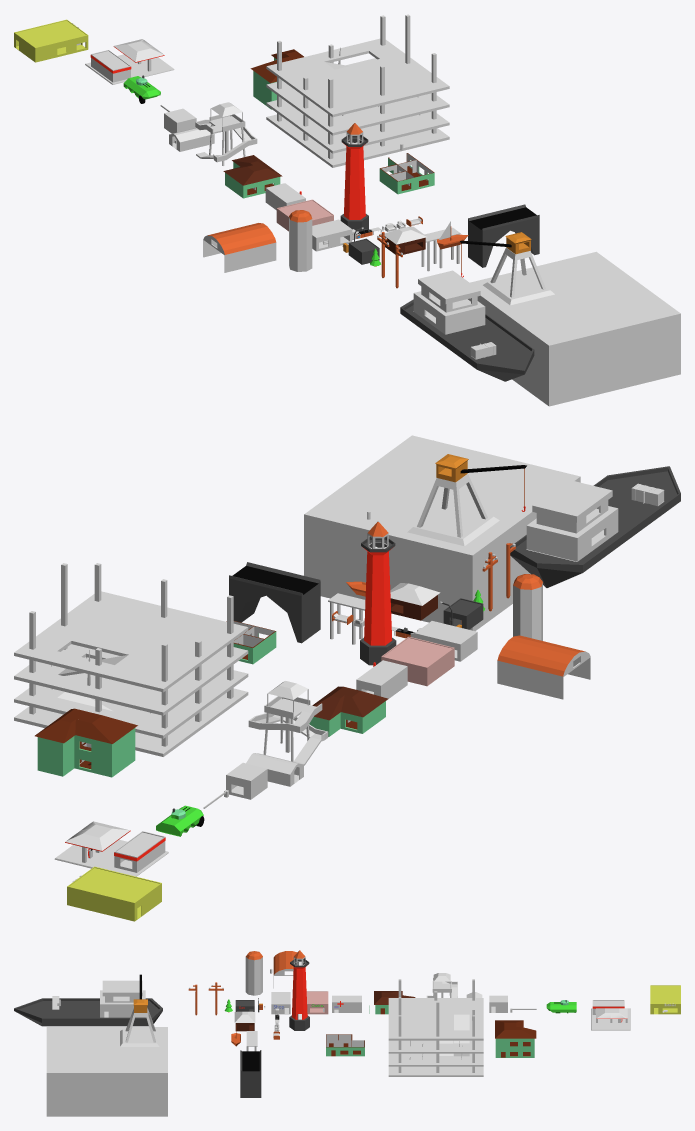
File: Enviroment.fbx
3 views of the same model, one above another, from view 1: azimuth 30°, elevation 25°; view 2: azimuth 150°, elevation 25°; view 3: azimuth 270°, elevation 25° (orthographic). The views are drawn at different scales.
Visible parts, largest first — view 1: Pritan, Bild, BigBoat, Angar, MostBig, Gas, EatBox, LightTower.001, Tower, CivilHouse, Build, FarmBarrel (+10 smaller); view 2: Pritan, Bild, BigBoat, CivilHouse.002, MostBig, Angar, Gas, EatBox, LightTower.001, Tower, CivilHouse, ClothShop (+12 smaller); view 3: Pritan, Bild, BigBoat, CivilHouse.002, LightTower.001, Gas, MostBig, EatBox, Build, FarmBarrel, Tower, ClothShop (+9 smaller).
Boxes of the visible parts, left/top/right/bottom form: Pritan: left=470, top=251, right=680, bottom=406; Bild: left=266, top=14, right=449, bottom=167; BigBoat: left=400, top=270, right=534, bottom=381; Angar: left=203, top=223, right=276, bottom=272; MostBig: left=468, top=204, right=539, bottom=267; Gas: left=85, top=39, right=174, bottom=84; EatBox: left=14, top=19, right=88, bottom=62; LightTower.001: left=340, top=123, right=368, bottom=231; Tower: left=195, top=102, right=257, bottom=165; CivilHouse: left=223, top=155, right=282, bottom=198; Build: left=379, top=153, right=434, bottom=194; FarmBarrel: left=289, top=210, right=312, bottom=271; Pritan: left=304, top=435, right=580, bottom=631; Bild: left=14, top=563, right=248, bottom=756; BigBoat: left=510, top=466, right=680, bottom=587; CivilHouse.002: left=35, top=708, right=137, bottom=777; MostBig: left=229, top=562, right=320, bottom=643; Angar: left=497, top=635, right=590, bottom=699; Gas: left=54, top=821, right=168, bottom=876; EatBox: left=67, top=866, right=161, bottom=921; LightTower.001: left=360, top=521, right=396, bottom=665; Tower: left=248, top=681, right=328, bottom=765; CivilHouse: left=309, top=686, right=388, bottom=736; ClothShop: left=381, top=636, right=454, bottom=686; Pritan: left=46, top=1027, right=167, bottom=1116; Bild: left=388, top=979, right=483, bottom=1076; BigBoat: left=14, top=980, right=162, bottom=1026; CivilHouse.002: left=495, top=1020, right=536, bottom=1057; LightTower.001: left=289, top=950, right=309, bottom=1030; Gas: left=591, top=1000, right=630, bottom=1030; MostBig: left=240, top=1050, right=261, bottom=1097; EatBox: left=650, top=985, right=680, bottom=1014; Build: left=326, top=1034, right=364, bottom=1056; FarmBarrel: left=245, top=951, right=262, bottom=995; Tower: left=426, top=973, right=457, bottom=997; ClothShop: left=306, top=991, right=328, bottom=1014.
Bounding box in the file's own units: 24758 × 12378 × 65366.
